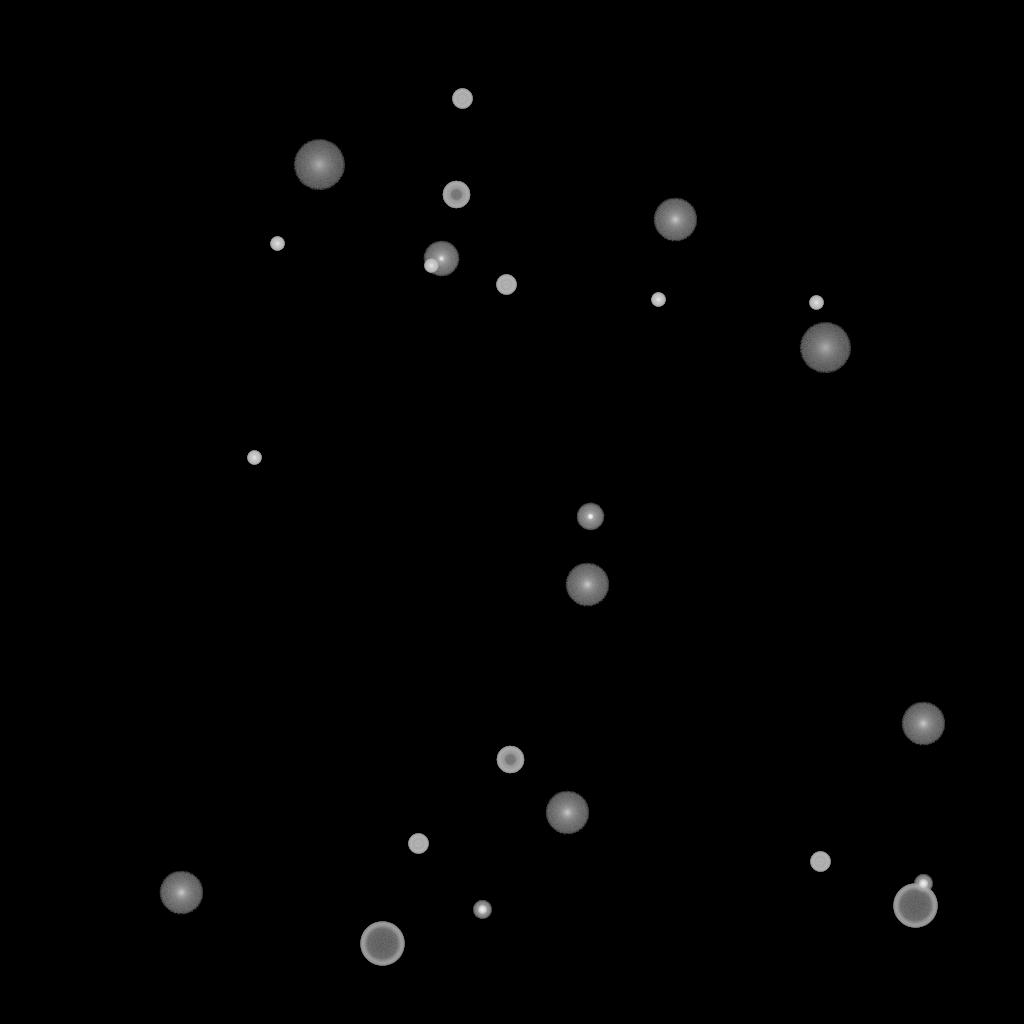depth:-10: (576, 503, 604, 531)
depth:-20: (473, 901, 491, 919), (914, 875, 932, 893)
depth:-30: (651, 293, 665, 307), (424, 259, 438, 273), (809, 296, 823, 310), (270, 237, 284, 251), (247, 451, 261, 465)
depth:-40: (452, 89, 472, 109), (496, 275, 516, 295), (810, 852, 830, 872), (408, 834, 428, 854)
depth:-50: (496, 746, 524, 774), (442, 181, 470, 209)
depth:-70: (360, 922, 404, 966), (893, 884, 937, 928)
depth:0: (423, 241, 459, 277)
depth:10: (901, 702, 945, 746), (159, 871, 203, 915), (565, 563, 609, 607), (653, 198, 697, 242), (545, 791, 589, 835)
depth:20: (799, 323, 851, 373), (293, 140, 345, 190)
